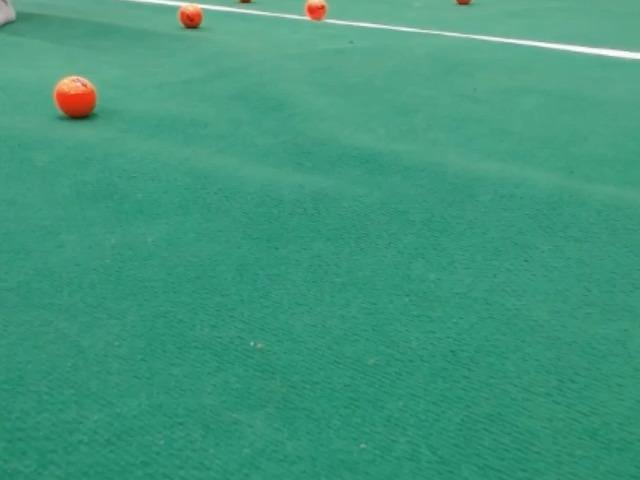Ball: (53, 76, 96, 118), (178, 4, 202, 28), (304, 0, 327, 21)
